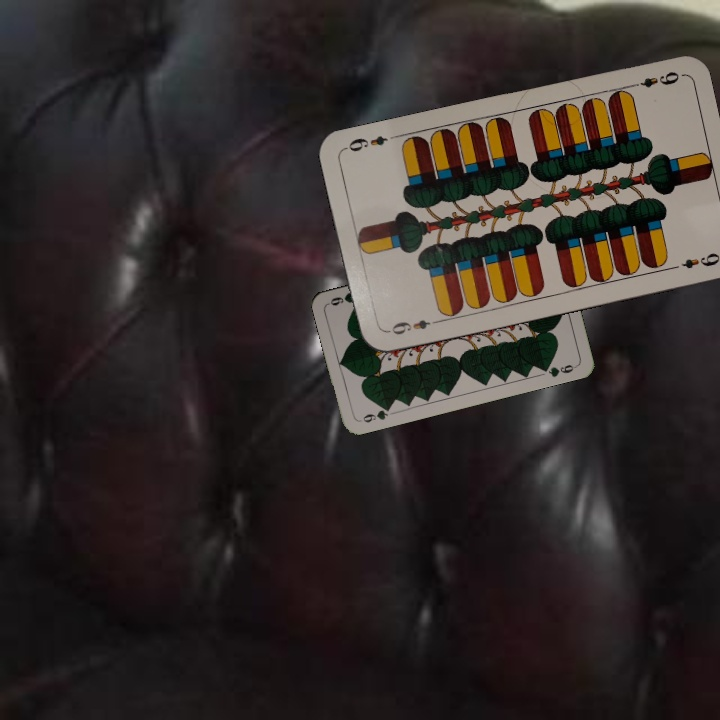E9: (625, 67, 682, 91), (382, 315, 441, 338)
G9: (356, 402, 394, 425)
